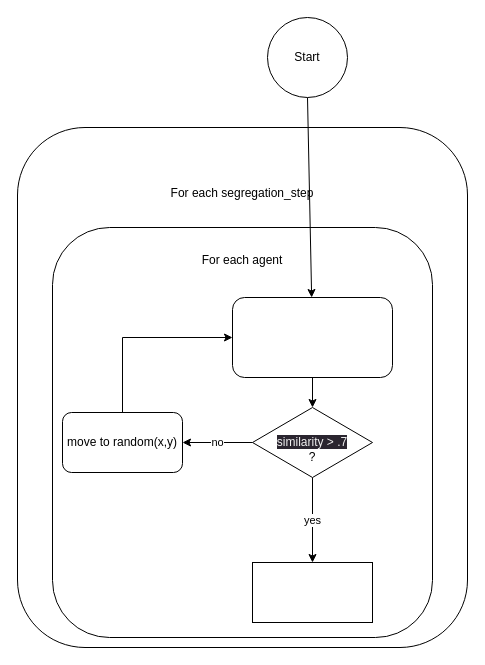
Some shapes in this 485 by 665 pixel diagram are drawn without their labels. Each missing label, with the centre of its shape:
similarity = Agents income / mean(neighbours.income): the point at 312,337
stay: the point at 312,592
